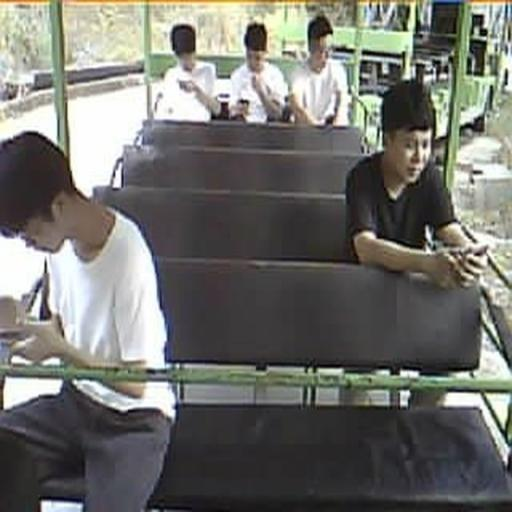persona: (0, 129, 178, 511), (343, 78, 490, 409), (344, 79, 490, 291), (289, 14, 351, 128), (152, 22, 222, 122), (228, 21, 290, 123)
